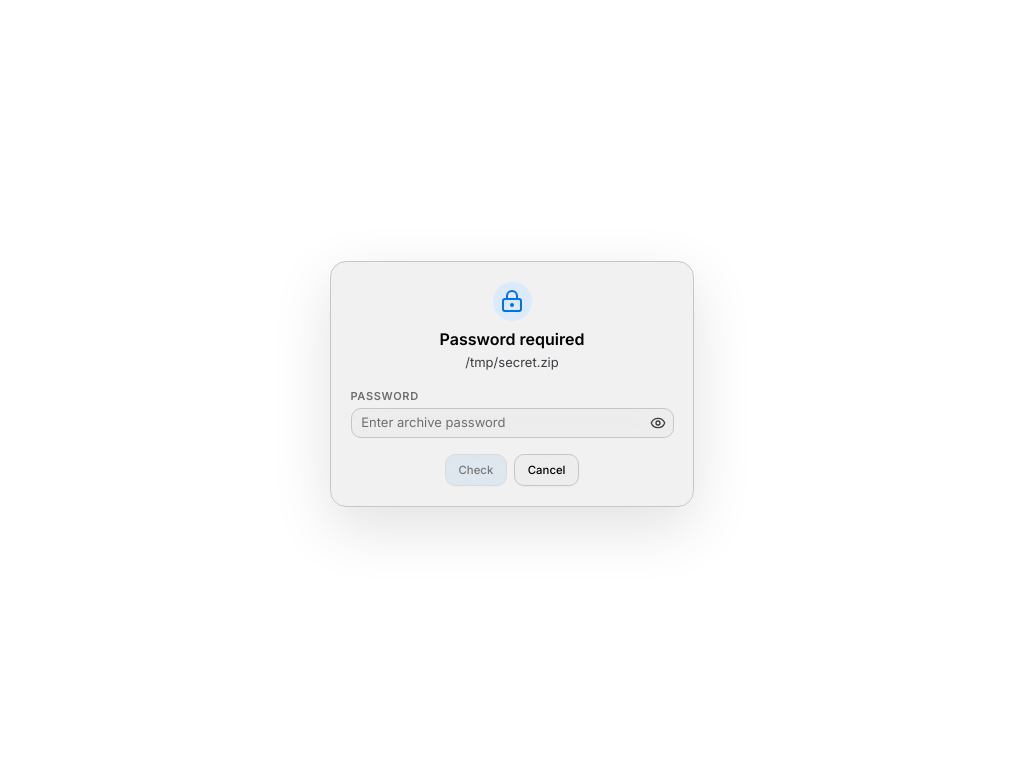
Test case: PasswordDialog › should_show_the_caller_accept_label_after_verifying
The image size is (1024, 768).
In the password field labelled "Password": (499, 423) [352,413,646,433], type "Correct123"
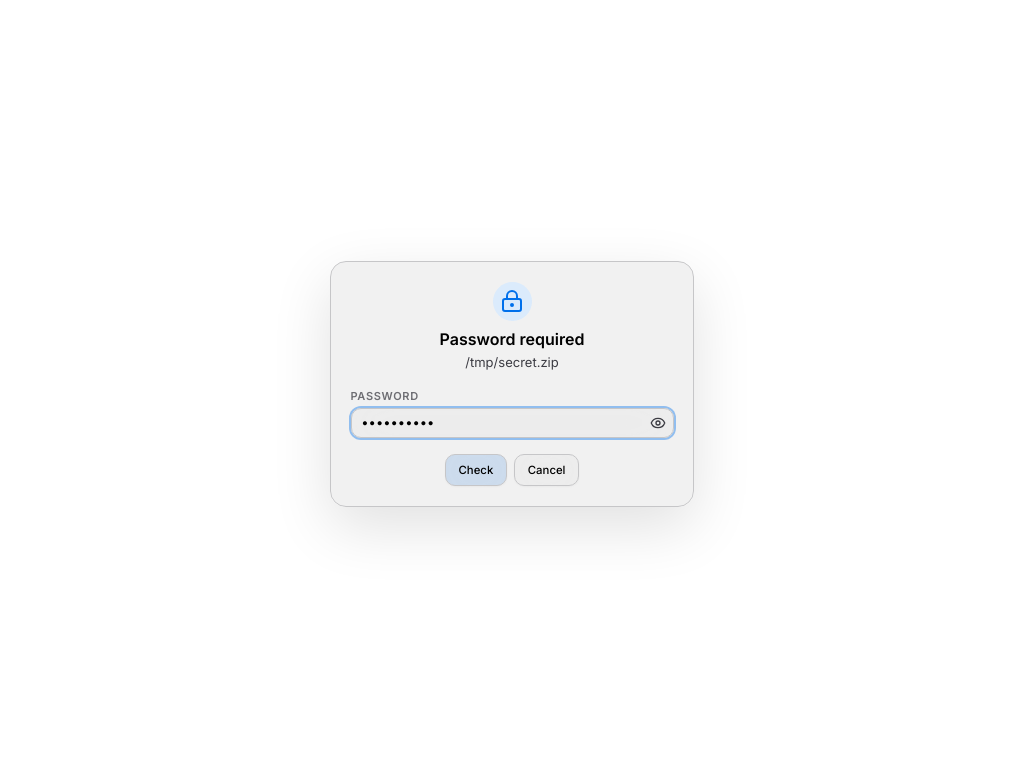
Click the button "Check": (476, 470) [444,454,507,486]
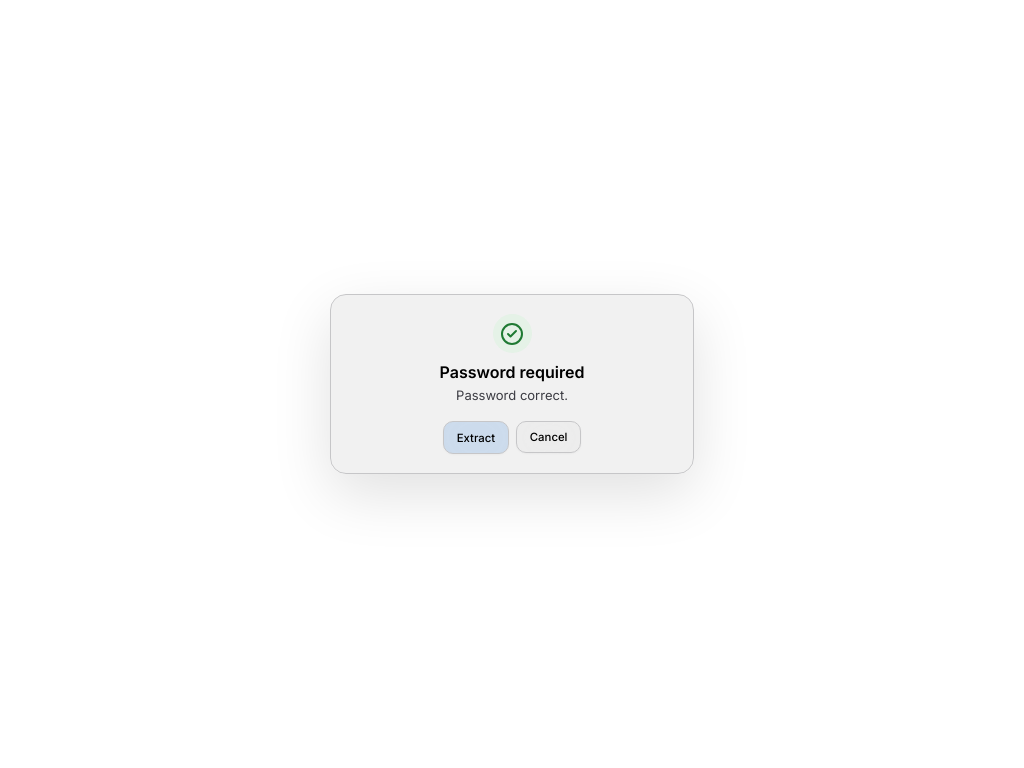
expect the button "Extract" is shown: met, box [443,421,509,454]
